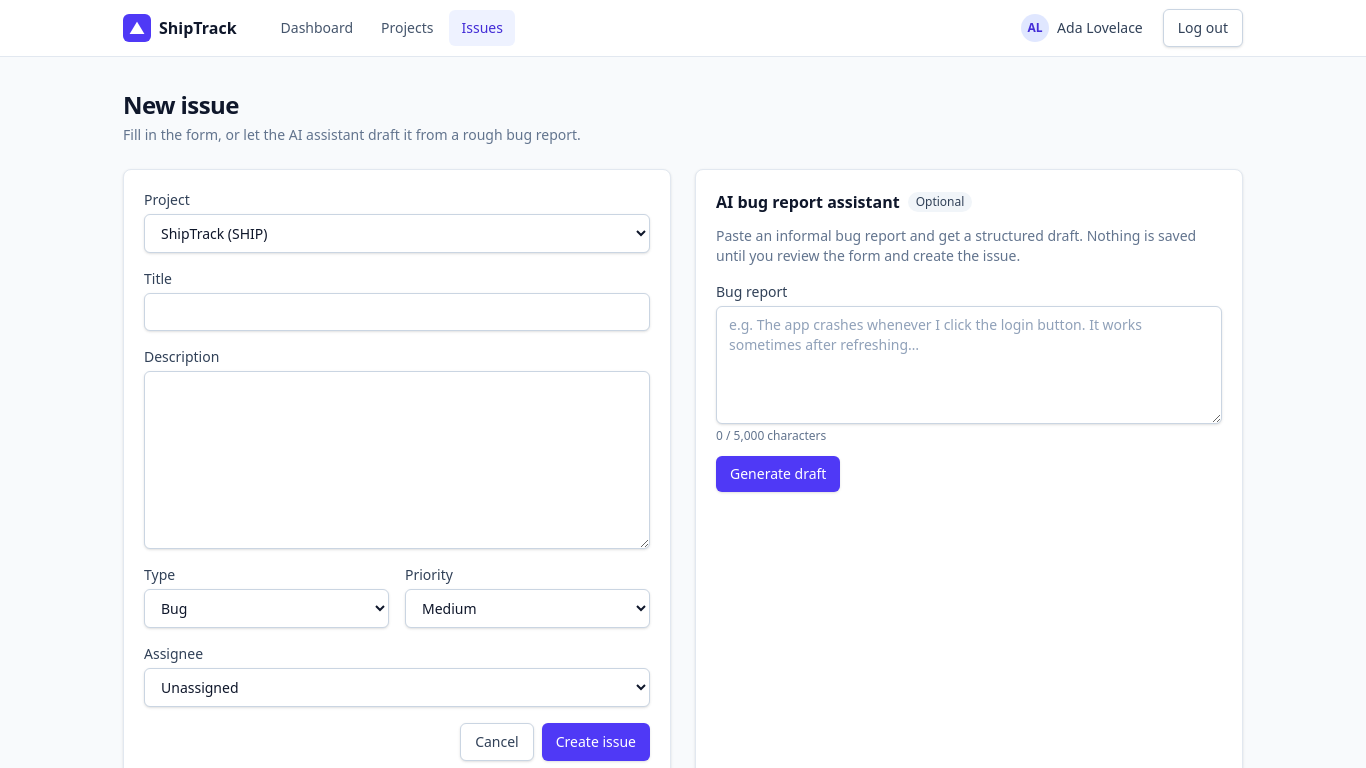
create issue › creates an issue manually (no AI needed) and opens it
Type "Login crashes" into the field labelled "Title" at (397, 312), box [144,293,650,331]
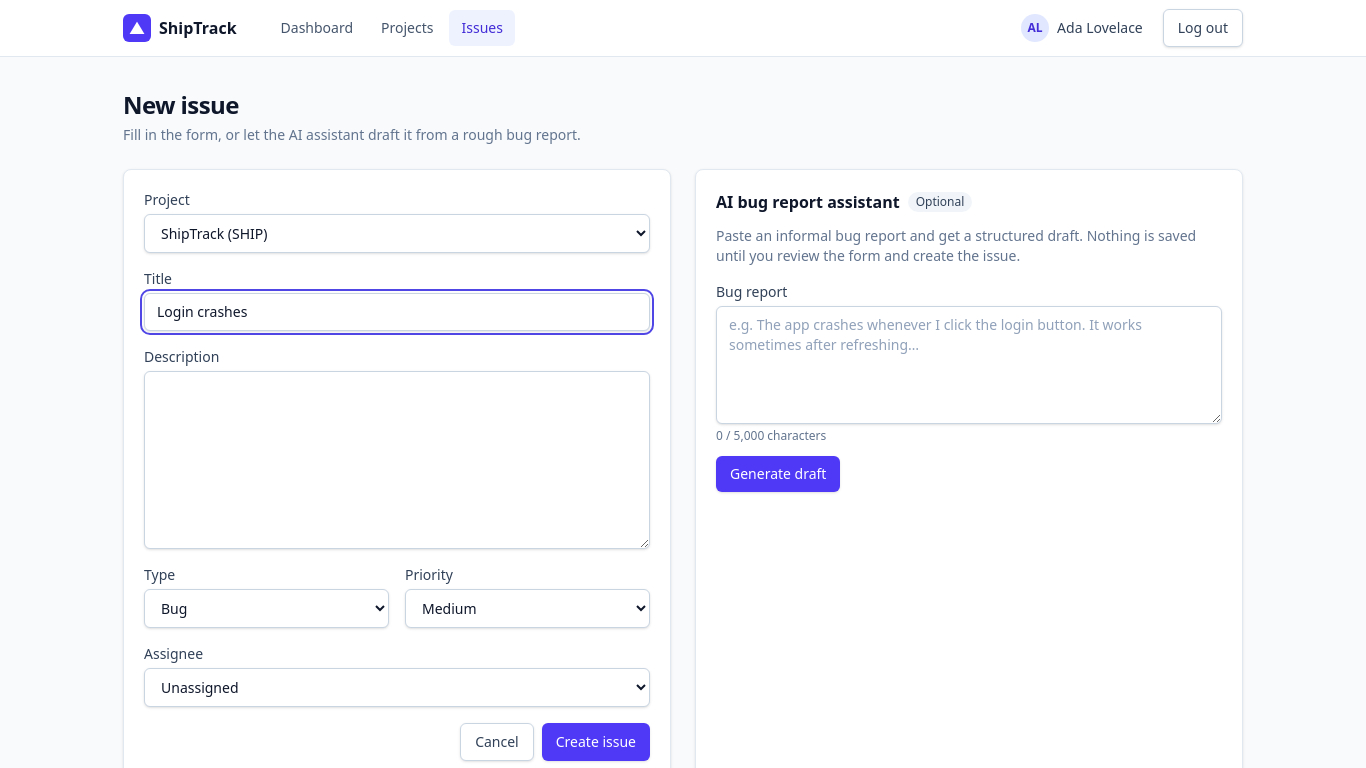
Select "High" in the dropdown labelled "Priority" at (528, 608), box [405,589,650,628]
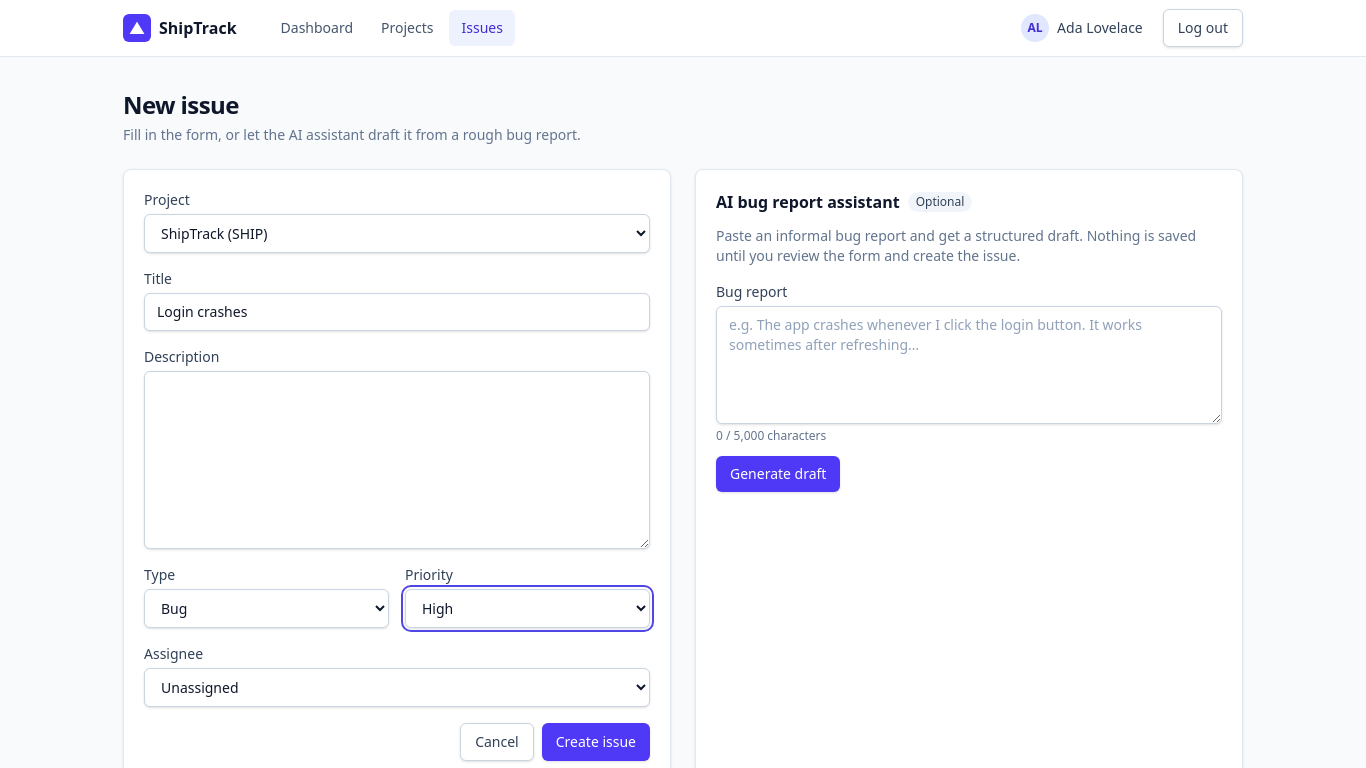
Click the button "Create issue" at (596, 742), box [542,723,650,761]
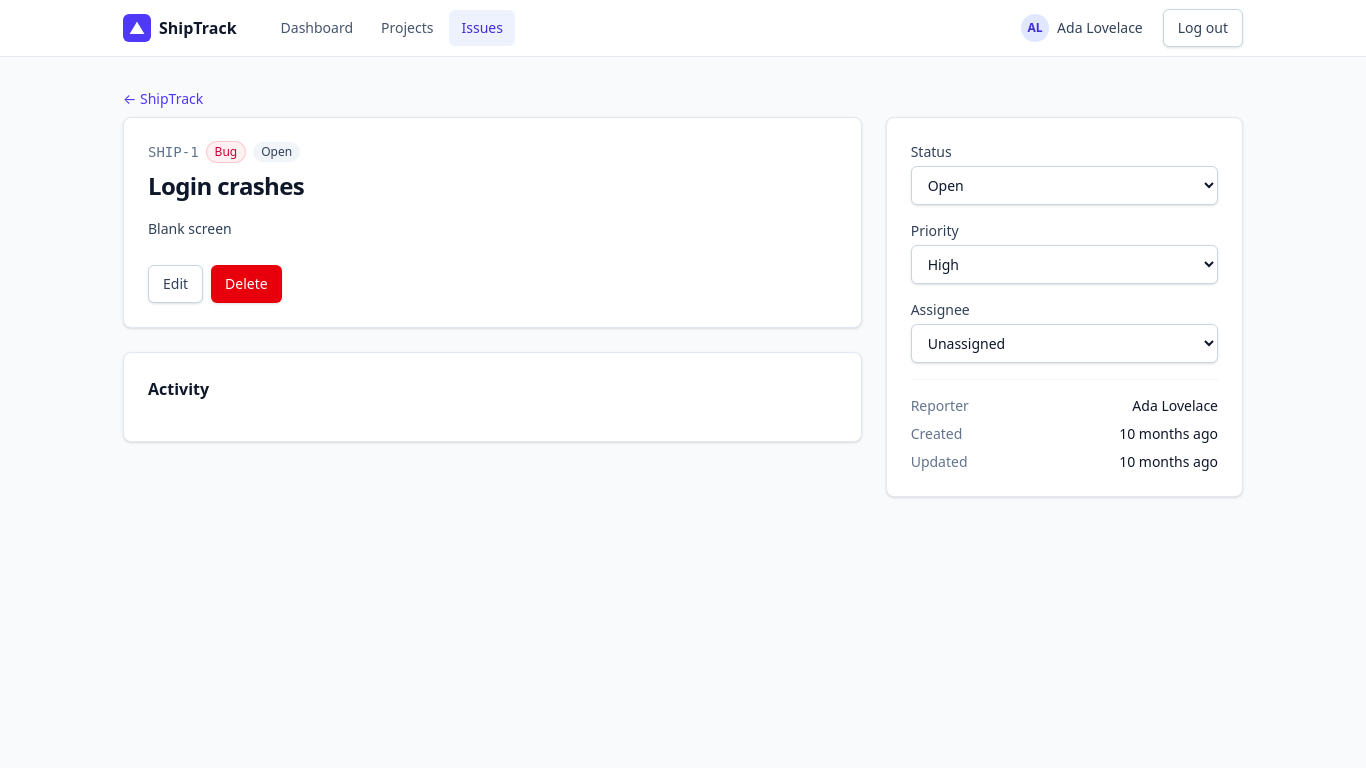
Now the heading "Login crashes" is shown, box [148,169,304,202]
